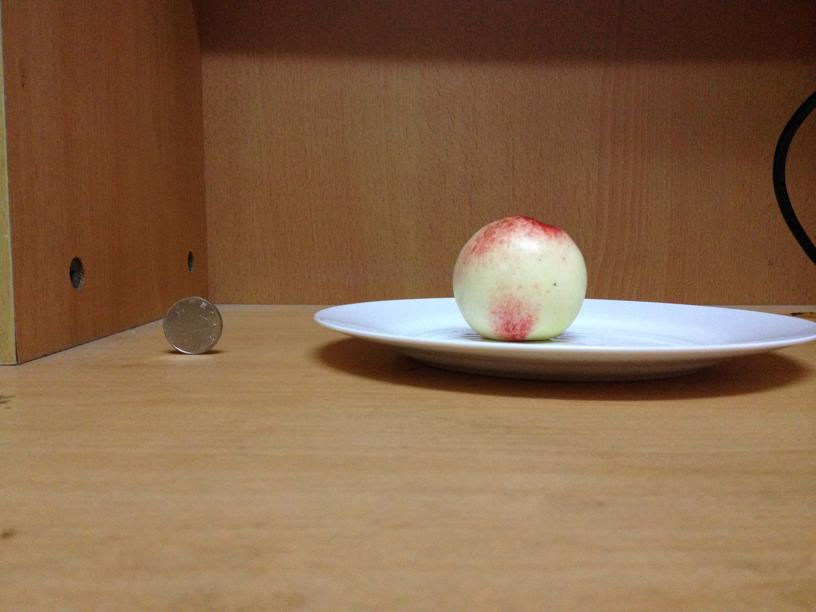coin: (162, 294, 224, 354)
peach: (450, 214, 586, 340)
